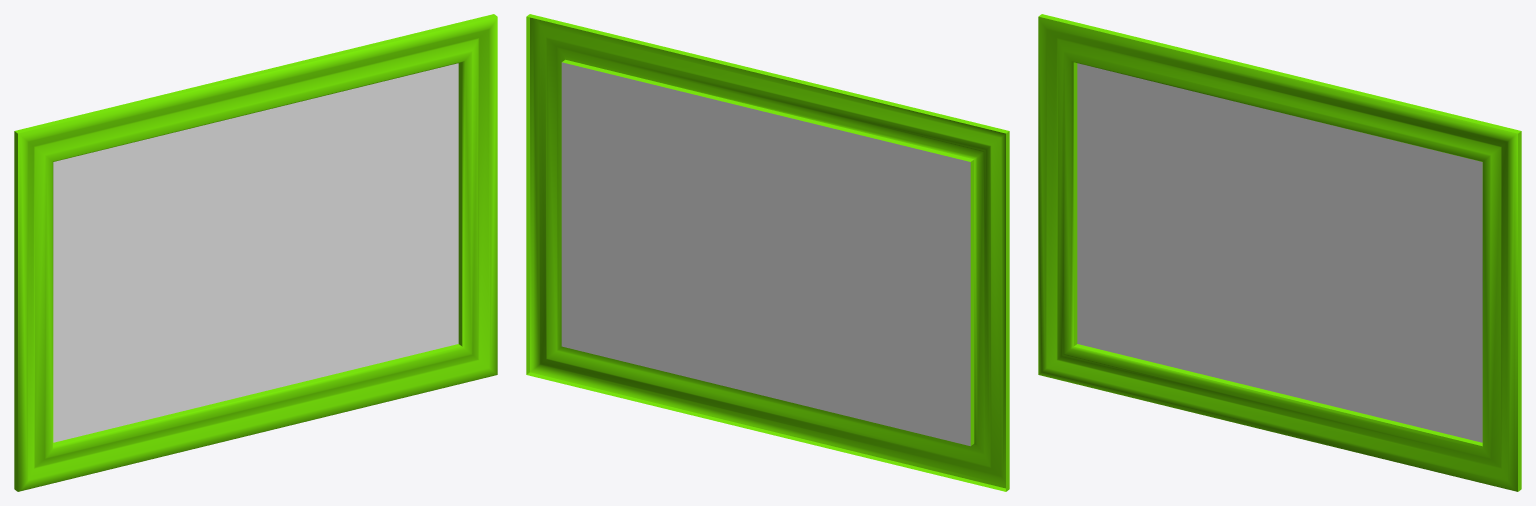
The model's file is painting_10_mesh.fbx.
3 views of the same model, side by side, from view 1: azimuth 30°, elevation 25°; view 2: azimuth 150°, elevation 25°; view 3: azimuth 330°, elevation 25° (orthographic).
Visible parts, largest first — view 1: painting; view 2: painting; view 3: painting.
Boxes of the visible parts, left/top/right/bottom form: painting: left=14, top=14, right=497, bottom=491; painting: left=526, top=14, right=1009, bottom=491; painting: left=1038, top=14, right=1521, bottom=491.
Bounding box in the file's own units: 1.17 × 0.8373 × 0.02.
